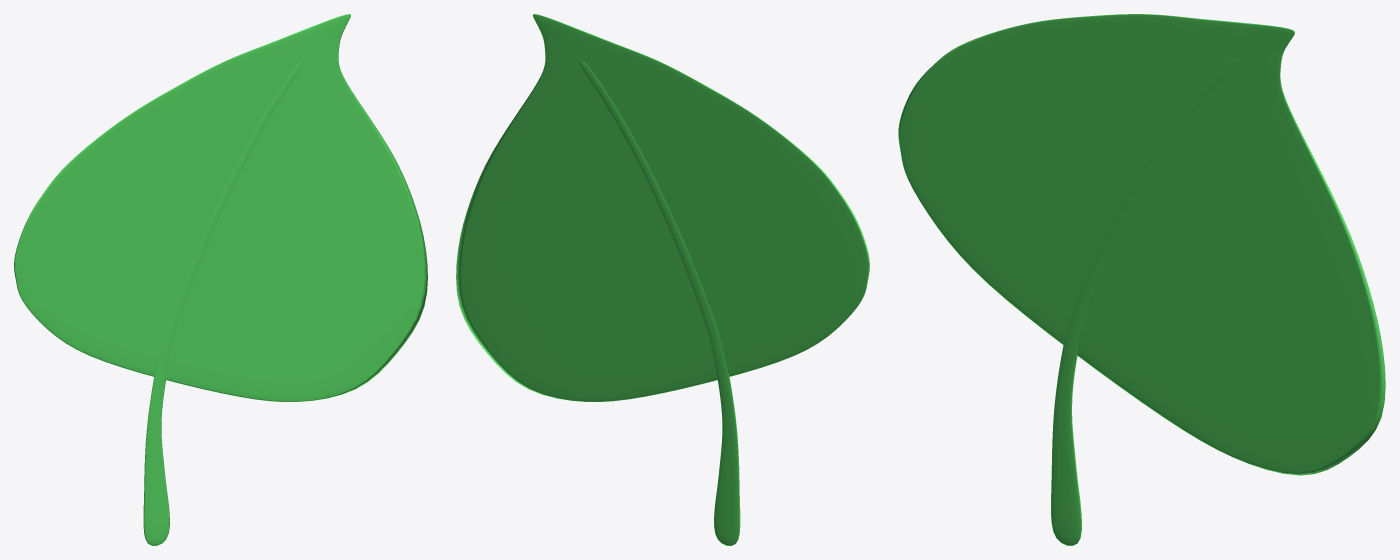
File: leaficon.fbx
3 renders of one model, left to right at view 1: azimuth 30°, elevation 25°; view 2: azimuth 150°, elevation 25°; view 3: azimuth 330°, elevation 25°, orthographic. The views are drawn at different scales.
Visible parts, largest first — view 1: cartoon leaf; view 2: cartoon leaf; view 3: cartoon leaf.
Boxes of the visible parts, x1=… form: cartoon leaf: x1=14, y1=14, x2=427, y2=545; cartoon leaf: x1=456, y1=14, x2=869, y2=545; cartoon leaf: x1=898, y1=14, x2=1385, y2=545.
Size of the model in its own units: 301 by 337 by 1.71.
